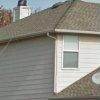Chimney: (10, 1, 38, 27)
